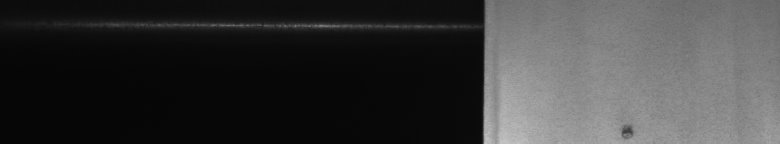fi: (613, 119, 640, 136)
